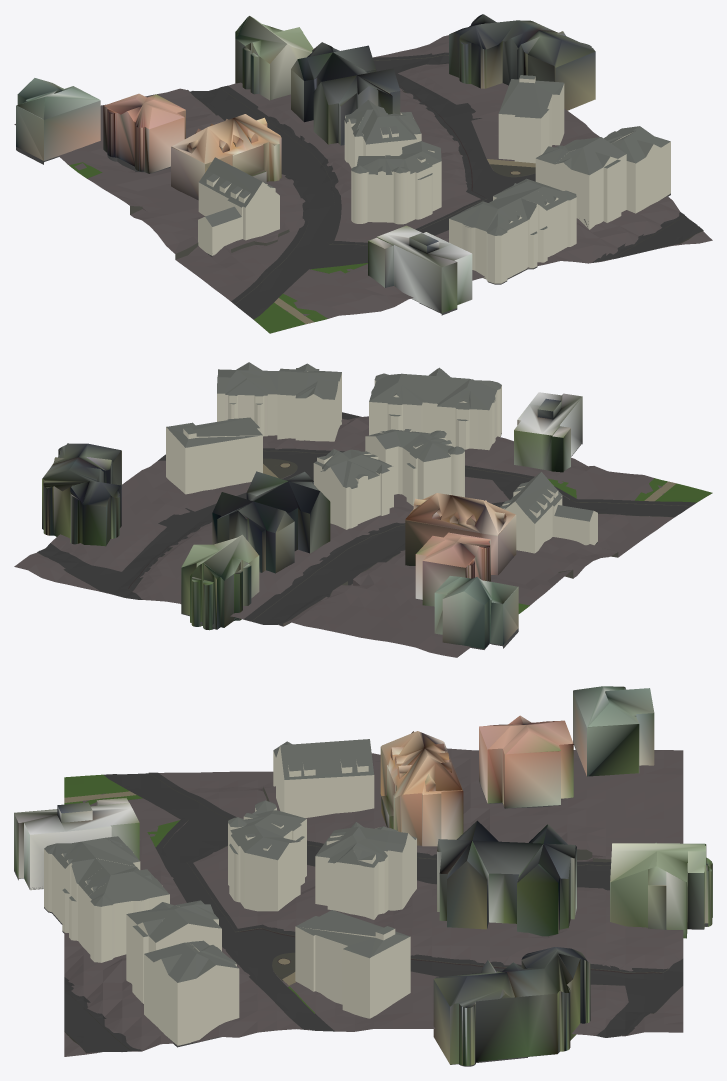
The picture shows the model from 3 angles, top to bottom: view 1: azimuth 30°, elevation 25°; view 2: azimuth 150°, elevation 25°; view 3: azimuth 270°, elevation 25°; orthographic projection. The views are drawn at different scales.
Visible parts, largest first — view 1: c_m06_p11; view 2: c_m06_p11; view 3: c_m06_p11.
Boxes of the visible parts, bbox=[...] form: c_m06_p11: bbox=[14, 14, 712, 333]; c_m06_p11: bbox=[14, 362, 712, 657]; c_m06_p11: bbox=[14, 686, 712, 1066].
Size of the model in its own units: 147 by 26 by 144.
